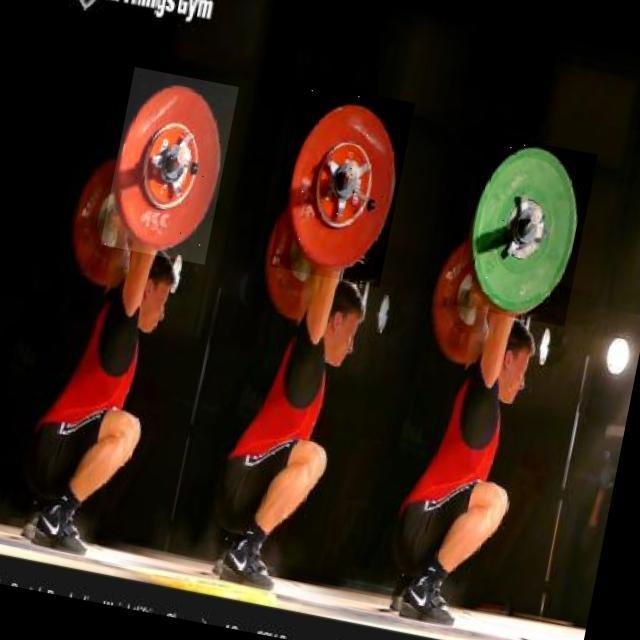barbell: (270, 83, 416, 289), (455, 135, 599, 328), (101, 68, 240, 266)
